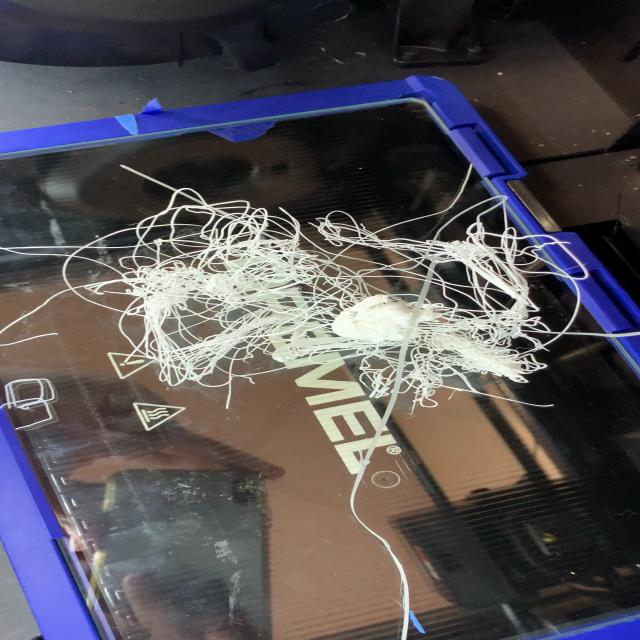spaghetti: (6, 165, 614, 418)
